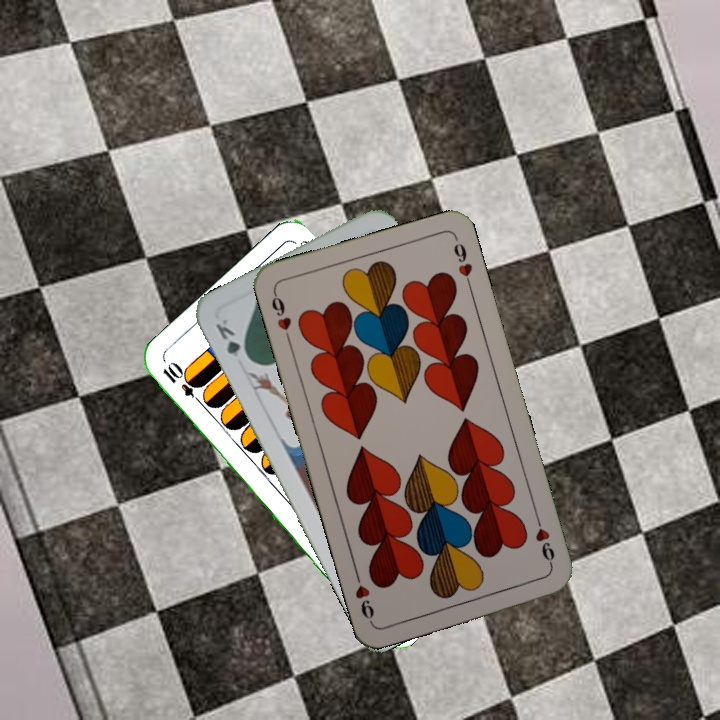E10: (158, 359, 207, 408)
GK: (211, 315, 253, 365)
H9: (267, 287, 294, 345), (531, 513, 558, 571)
